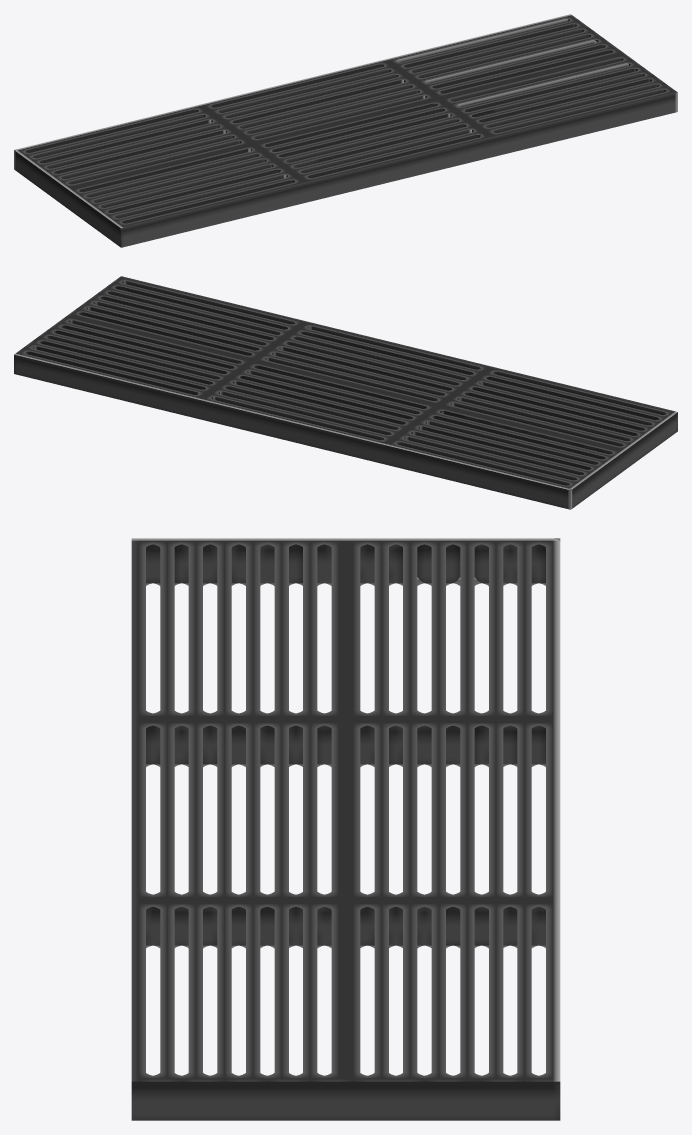
Rendered from grating.fbx.
3 renders of one model, top to bottom at view 1: azimuth 30°, elevation 25°; view 2: azimuth 150°, elevation 25°; view 3: azimuth 270°, elevation 25°, orthographic. The views are drawn at different scales.
Parts seen in each view (by area): view 1: grating; view 2: grating; view 3: grating.
Boxes of the visible parts, x1,y1,x2,y2 form: grating: (14, 14, 677, 247); grating: (14, 276, 677, 509); grating: (131, 538, 560, 1120).
Bounding box in the file's own units: 60 × 2 × 20.
Materials: 1 (1 with a texture image).
